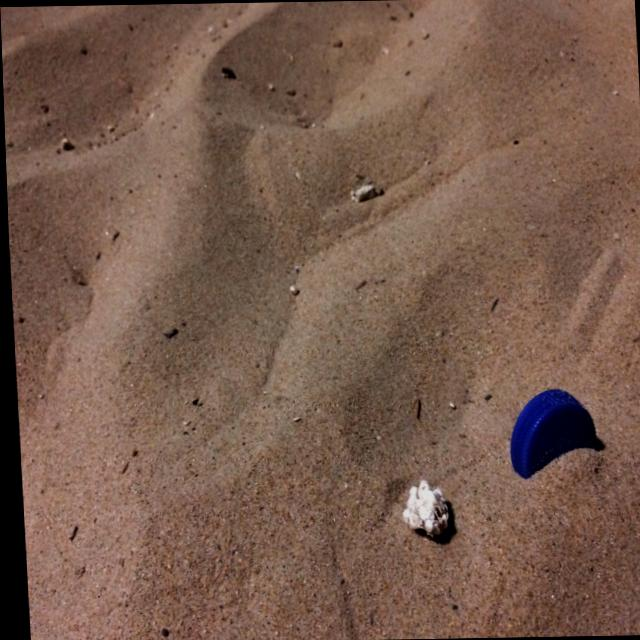Plastic: (500, 382, 599, 482), (393, 476, 452, 542)
